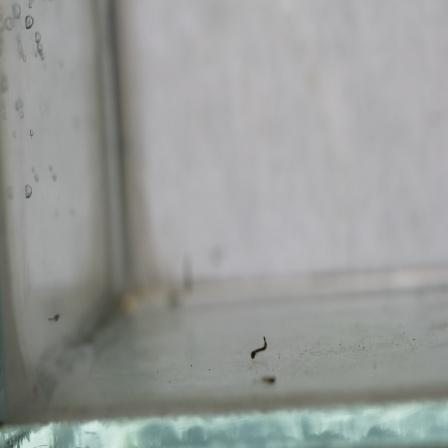Jentik-Nyamuk: (247, 333, 273, 360)
